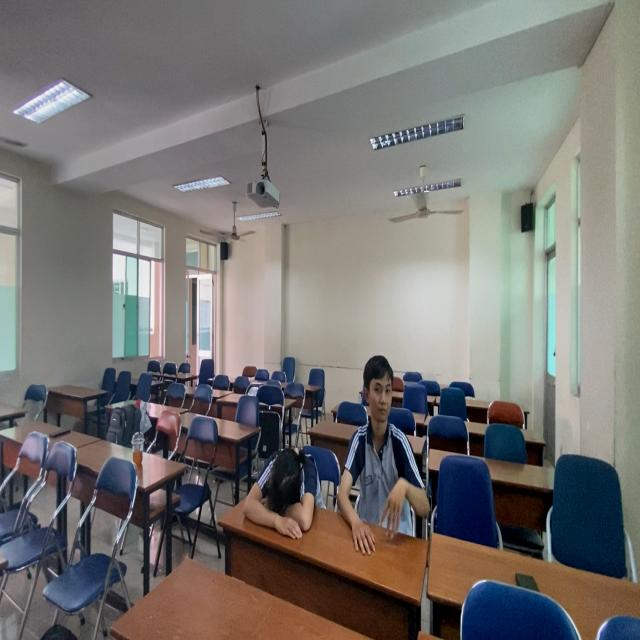sleep: (238, 441, 328, 538)
